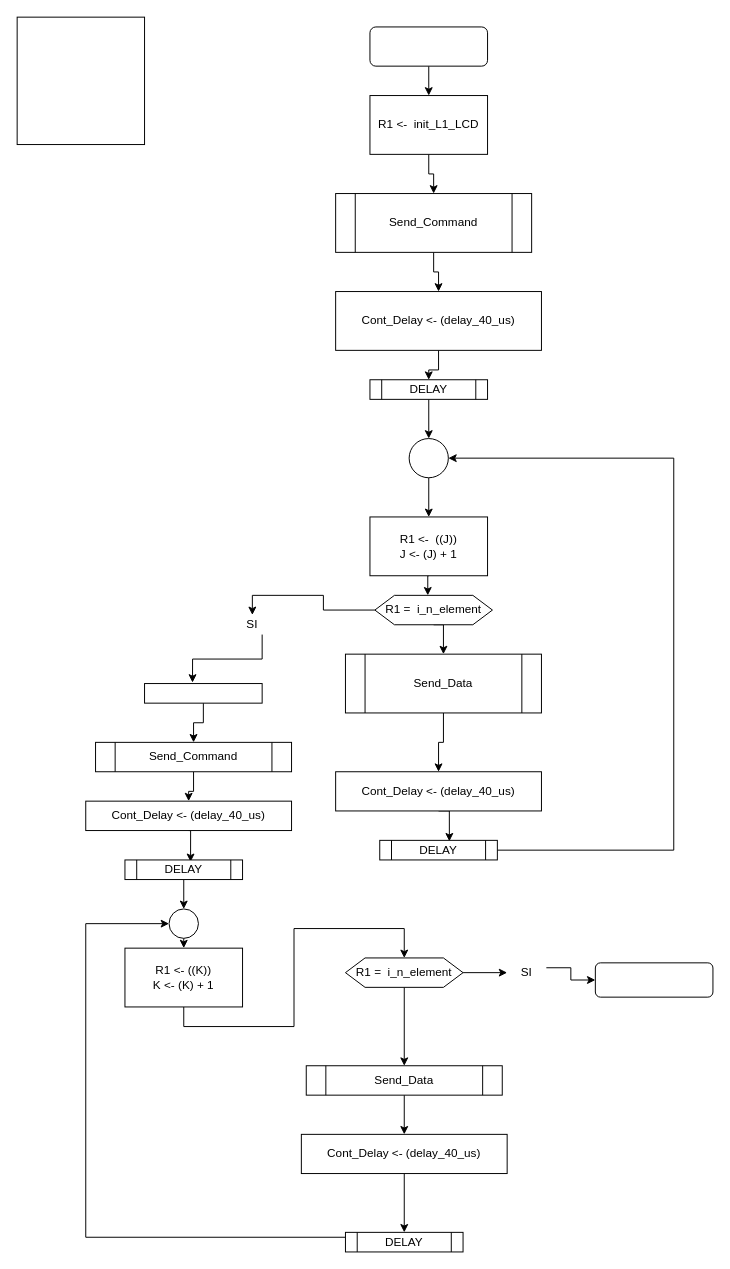
This 730x1269 diagram has some shape labels left out. The shapes that lost their labels are listed below. From the top down, each one's box as (x1, y1, x2, y2) in pixels, then its label:
(369, 26, 488, 66): CARGAR_LCD
(16, 16, 145, 145): C - carry K. - Y J - X R1 - A R2 - B RR1 - D
(144, 683, 262, 703): R1 <- init_L2_LCD
(594, 962, 713, 997): RETURN
